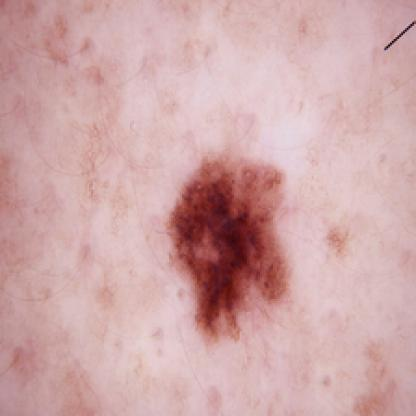benign: (167, 163, 297, 329)
